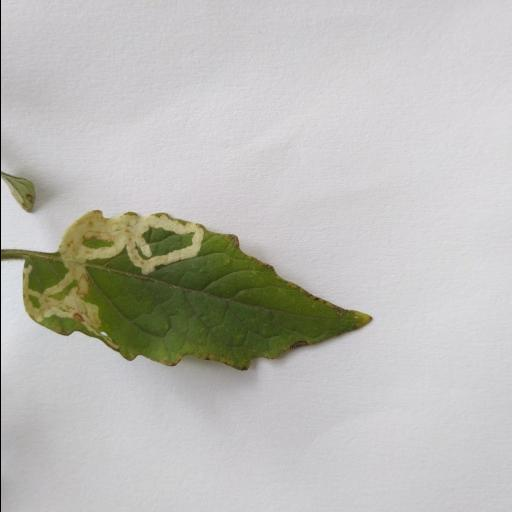disease_tomato: (22, 204, 370, 374)
